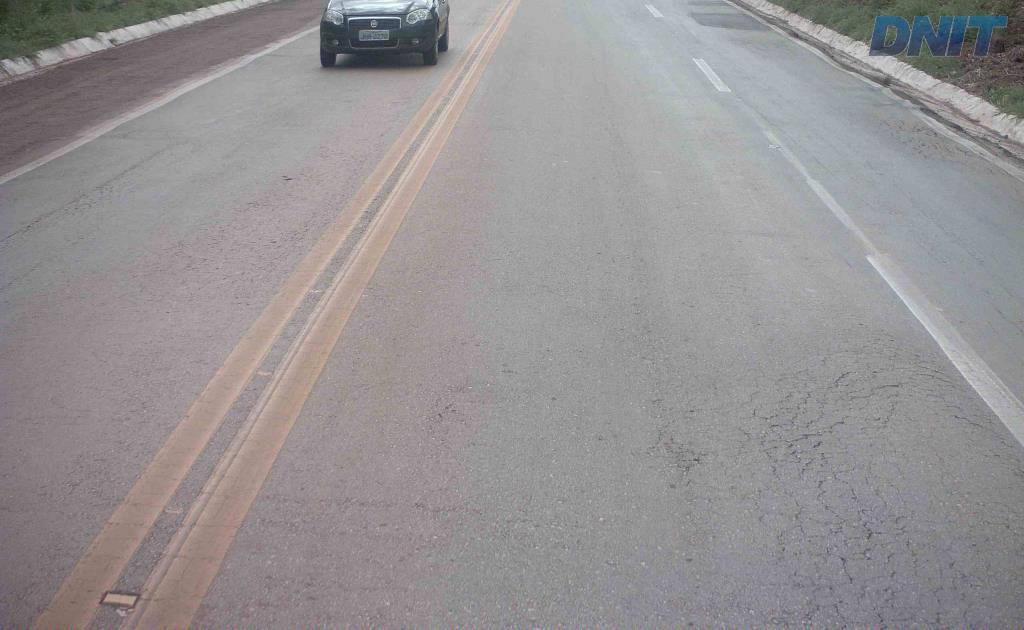crack: (950, 540, 982, 590)
